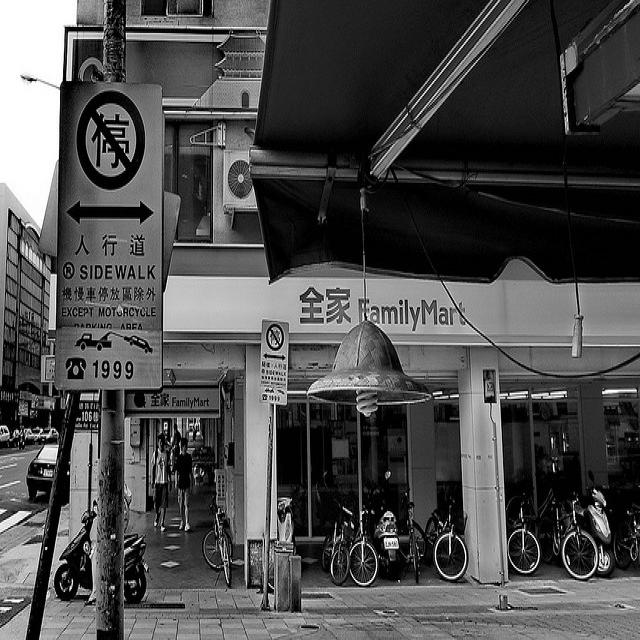motor: (54, 499, 150, 602), (575, 466, 615, 577), (373, 508, 401, 564)
